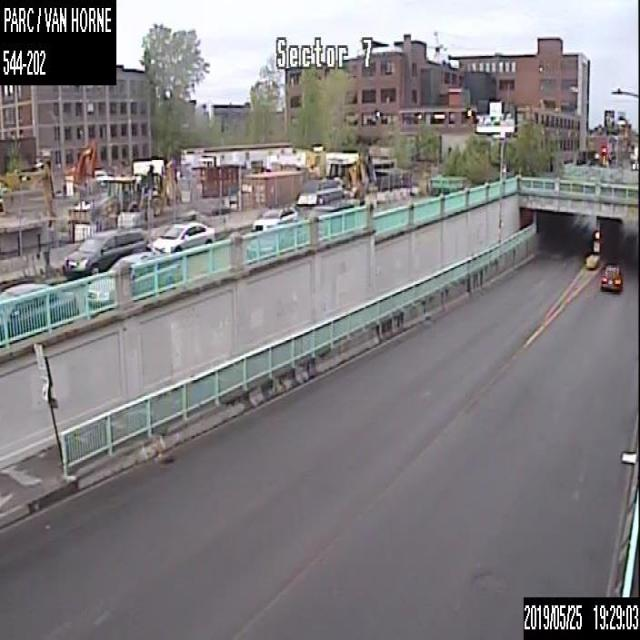vehicle: (82, 250, 183, 312), (0, 280, 79, 349), (64, 227, 148, 282), (246, 222, 306, 260), (152, 220, 215, 256), (307, 203, 355, 245), (295, 178, 342, 217), (251, 204, 299, 231), (599, 263, 622, 292)
